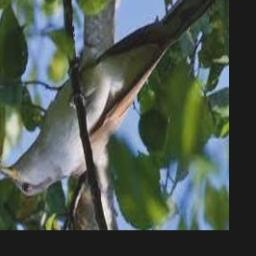Cuckoo: (1, 0, 224, 198)
